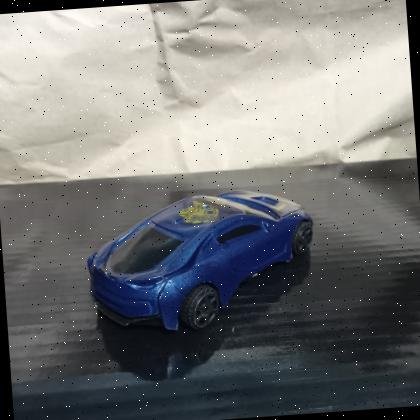Car: (75, 176, 328, 344)
